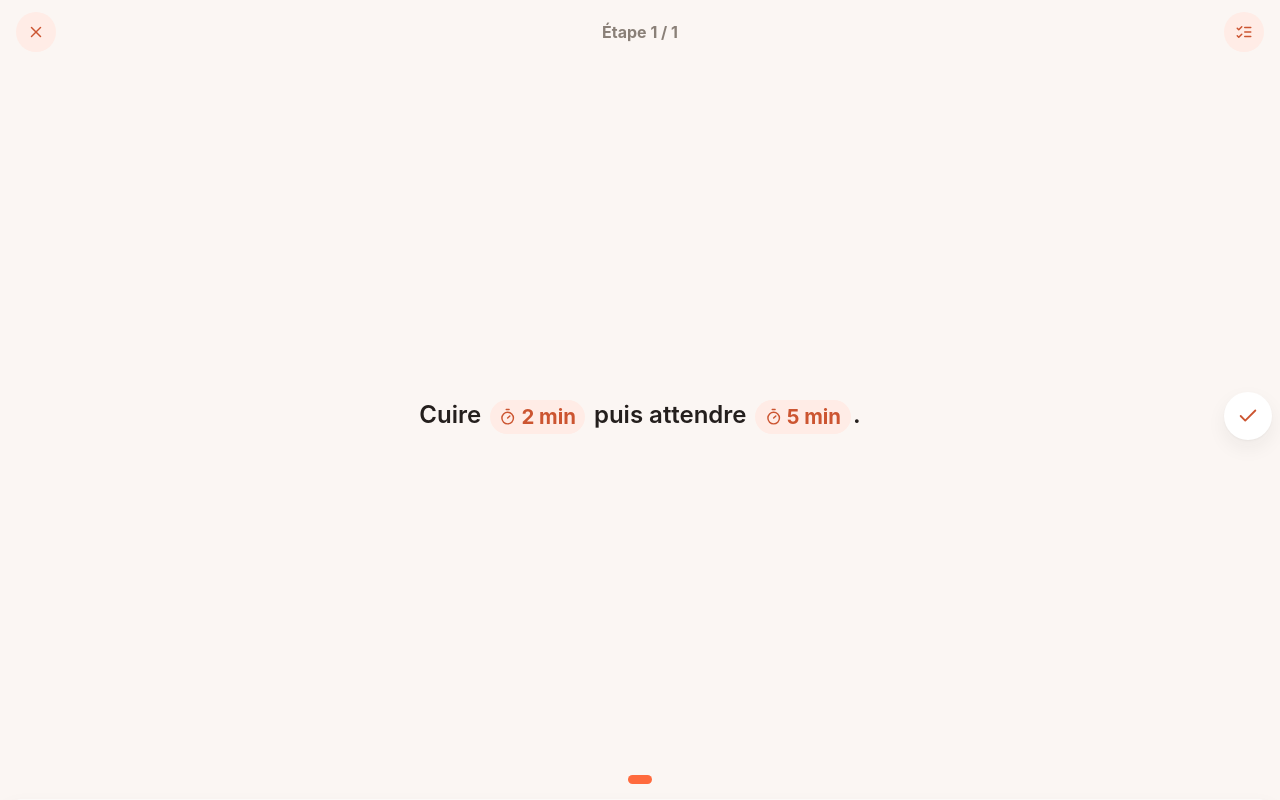
Test case: RecipeCookMode timer dock › shows one dock row per simultaneously active timer
Step 1. Click the button with class "timer-chip" showing "2 min" → (538, 417), box [490,400,586,434]
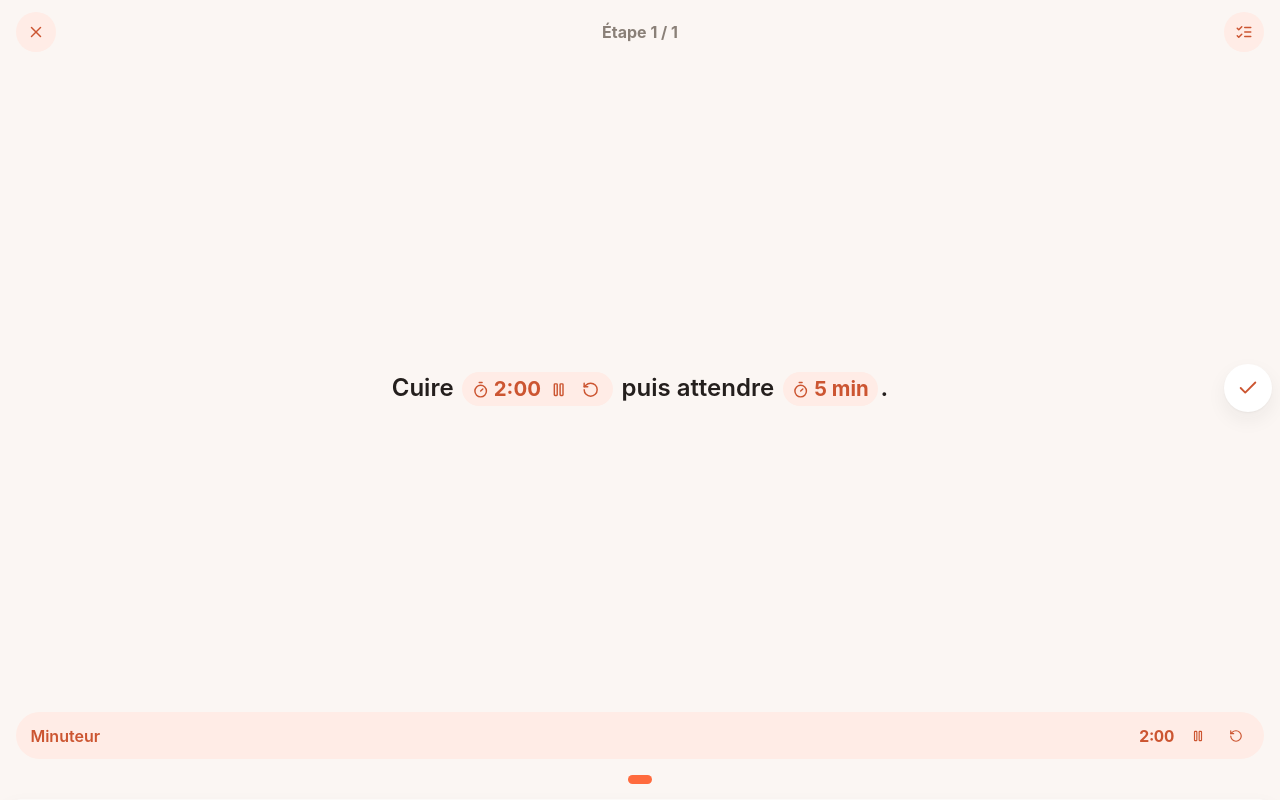
Step 2. Click the button with class "timer-chip" showing "5 min" → (830, 389), box [783,372,878,406]
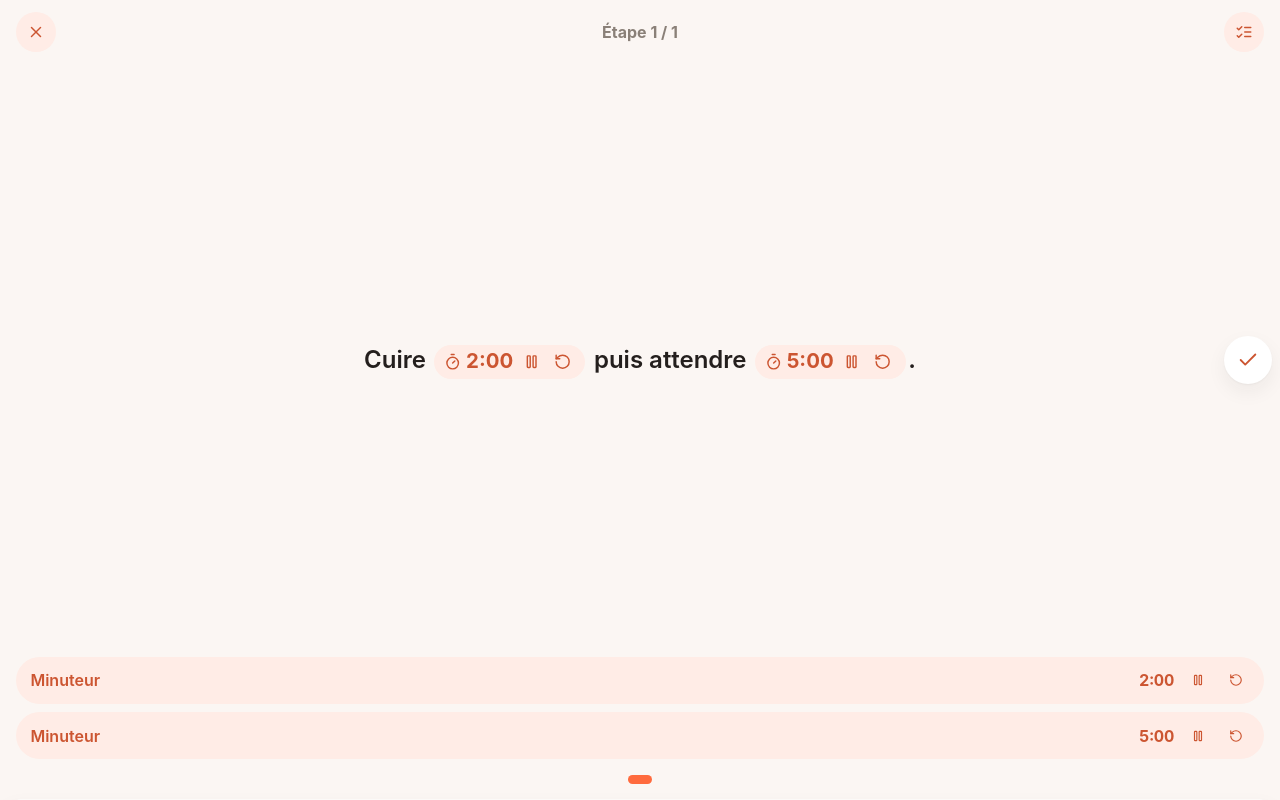
Check: the number of elements with class "cook-mode-timer-dock-row" is 2, box [16,657,1264,704]; [16,712,1264,759]
